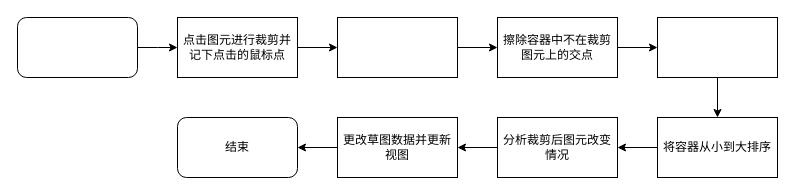
Some shapes in this 795 by 195 pixel diagram are drawn without their labels. Here are the shapes that lost their labels. From the top down, the centre of each, then its label:
point (77, 47): 开始
point (397, 47): 计算裁剪图元与其他图元的交点并存入容器
point (717, 47): 将图元的起点和终点存入容器
